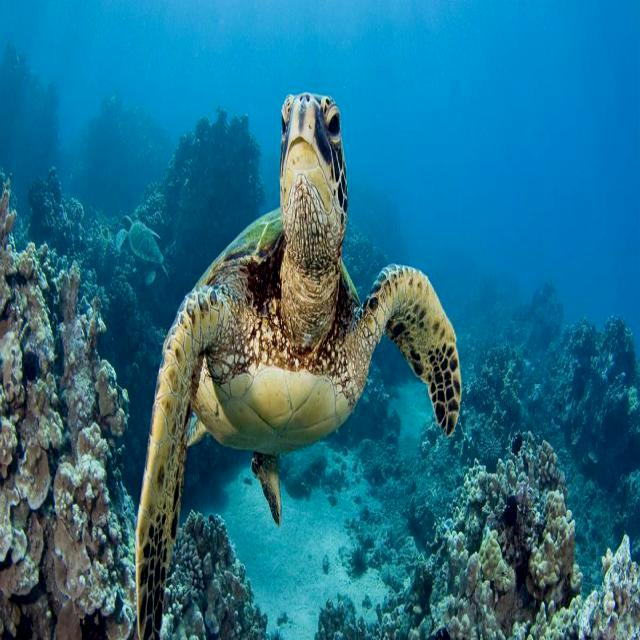tortoise: (120, 88, 468, 640)
